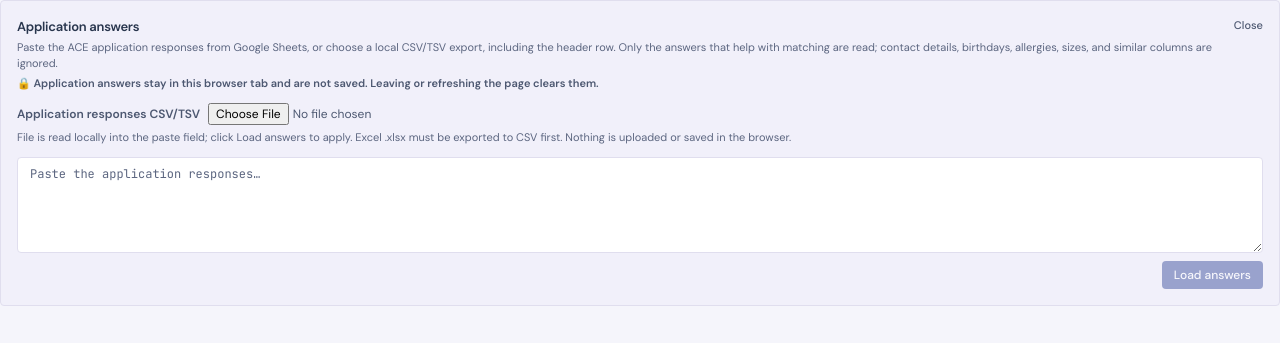
Scenario: reports a failed application load while retaining the original paste
Type "wrong sheet" into the text box named "Pasted application responses" at {"x": 640, "y": 205}, box [17, 157, 1263, 253]
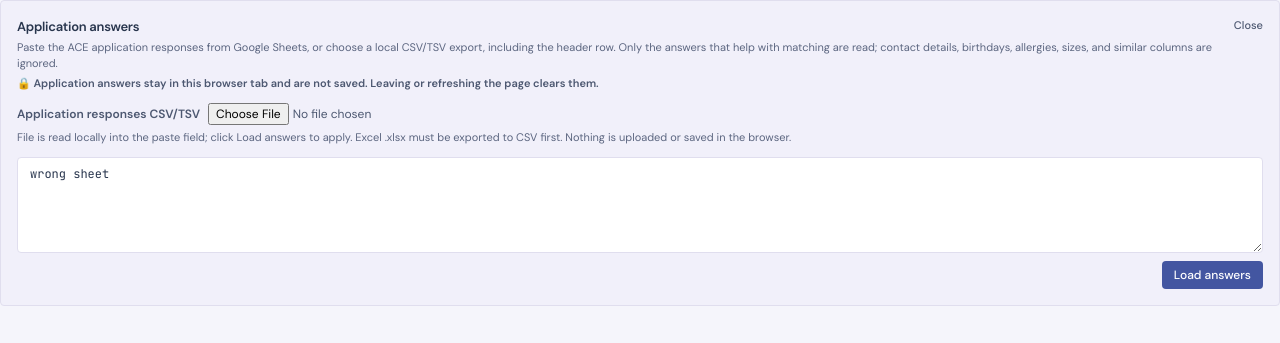
Click the button "Load answers" at {"x": 1212, "y": 275}, box [1162, 261, 1263, 289]
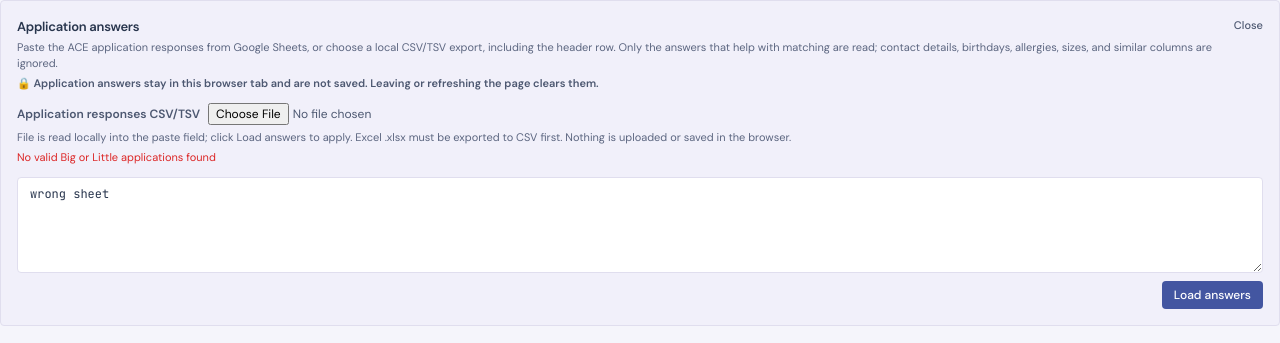
Result: the message reads "No valid Big or Little applications found" at [17, 150, 216, 164]
